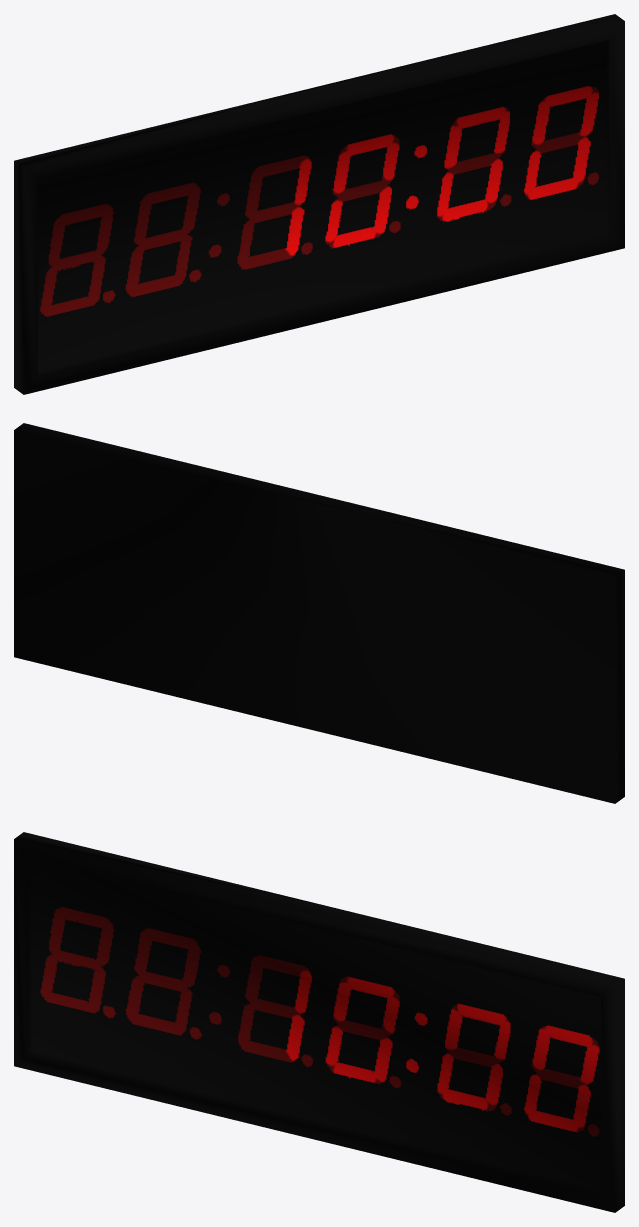
3 renders of one model, top to bottom at view 1: azimuth 30°, elevation 25°; view 2: azimuth 150°, elevation 25°; view 3: azimuth 330°, elevation 25°, orthographic.
Parts seen in each view (by area): view 1: L-70; view 2: L-70; view 3: L-70.
Boxes of the visible parts, x1=… form: L-70: x1=14, y1=14, x2=624, y2=394; L-70: x1=14, y1=423, x2=624, y2=803; L-70: x1=14, y1=832, x2=624, y2=1212.
Size of the model in its own units: 49.84 by 17.99 by 1.41.
Materials: 2 (1 with a texture image).
